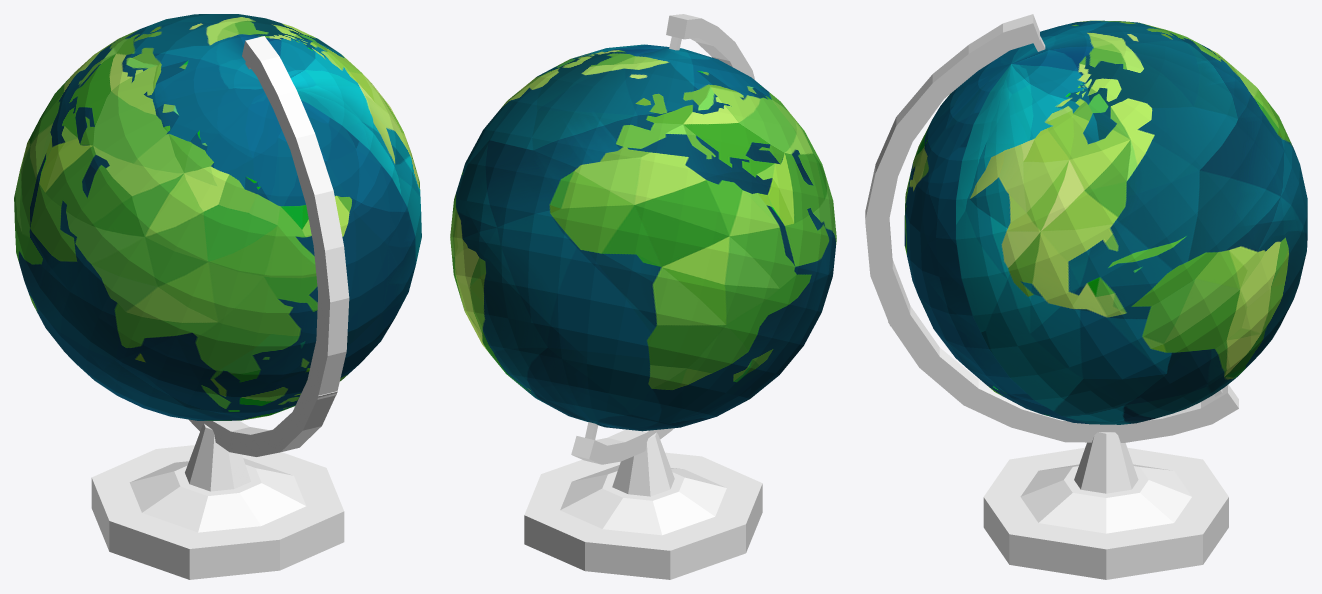
The model's file is globe_low_poly.glb.
3 renders of one model, left to right at view 1: azimuth 30°, elevation 25°; view 2: azimuth 150°, elevation 25°; view 3: azimuth 270°, elevation 25°, orthographic. The views are drawn at different scales.
Visible parts, largest first — view 1: Sphere_2, Cube_3, Cube.001_4; view 2: Sphere_2, Cube_3, Cube.001_4; view 3: Sphere_2, Cube_3, Cube.001_4.
Part boxes in pixels (x1=…): Sphere_2: x1=14, y1=14, x2=421, y2=420; Cube_3: x1=91, y1=424, x2=344, y2=579; Cube.001_4: x1=188, y1=36, x2=349, y2=456; Sphere_2: x1=450, y1=44, x2=836, y2=431; Cube_3: x1=524, y1=432, x2=762, y2=579; Cube.001_4: x1=571, y1=14, x2=754, y2=464; Sphere_2: x1=904, y1=20, x2=1307, y2=424; Cube_3: x1=983, y1=432, x2=1228, y2=579; Cube.001_4: x1=865, y1=14, x2=1238, y2=442.
Size of the model in its own units: 1.31 by 1.81 by 1.43.
Materials: 2 (1 with a texture image).
